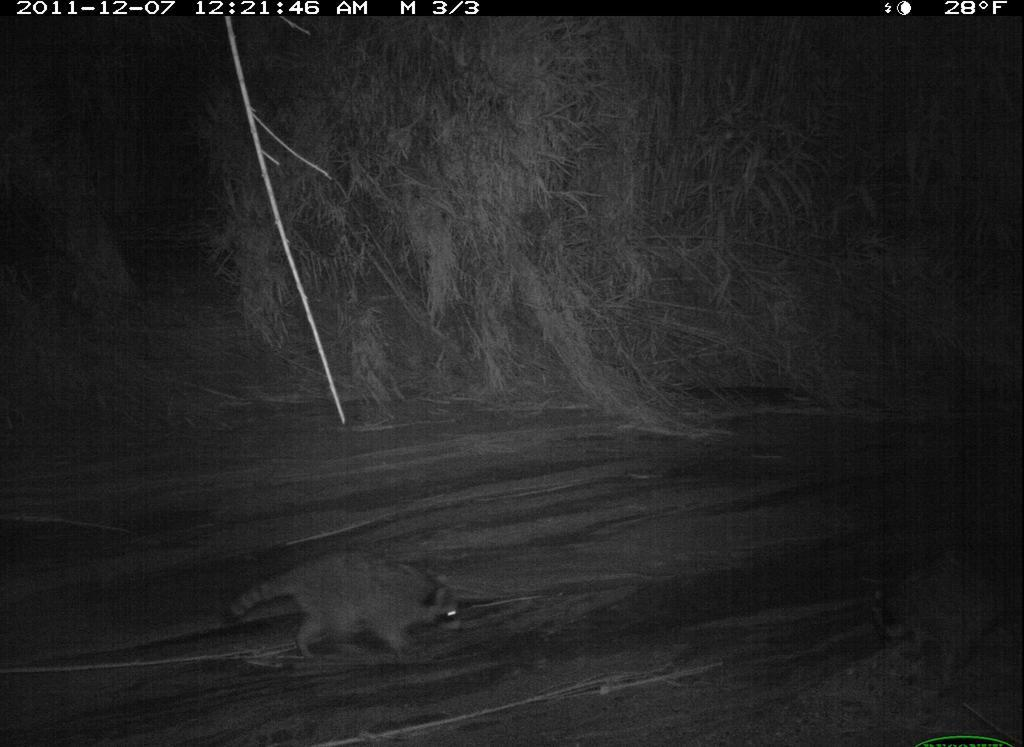raccoon: (216, 541, 472, 669), (859, 536, 1024, 695)
